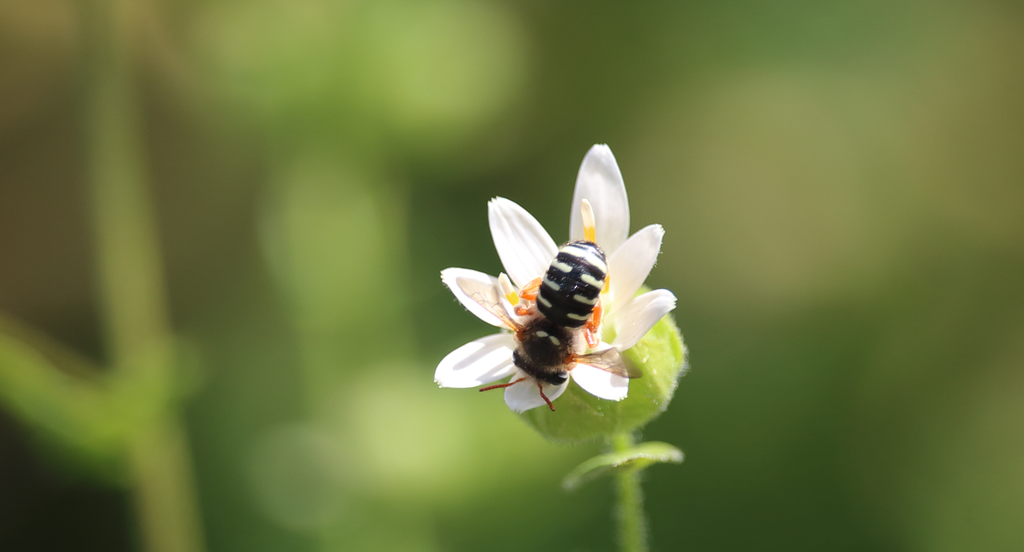not_bumblebee: (454, 239, 645, 414)
